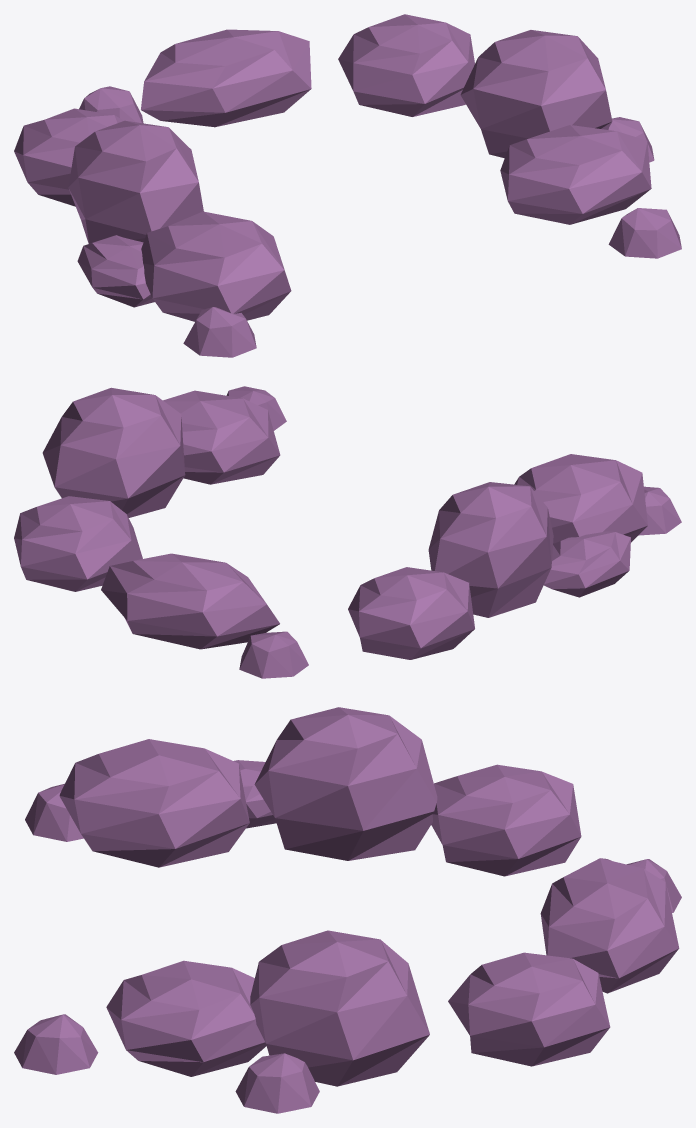
The model's file is decoration.glb.
3 views of the same model, one above another, from view 1: azimuth 30°, elevation 25°; view 2: azimuth 150°, elevation 25°; view 3: azimuth 270°, elevation 25° (orthographic). The views are drawn at different scales.
Visible parts, largest first — view 1: Decor_Tartarus_PurpleRock; view 2: Decor_Tartarus_PurpleRock; view 3: Decor_Tartarus_PurpleRock.
Part boxes in pixels (bbox=[...]): Decor_Tartarus_PurpleRock: bbox=[14, 14, 681, 357]; Decor_Tartarus_PurpleRock: bbox=[14, 386, 681, 678]; Decor_Tartarus_PurpleRock: bbox=[14, 707, 681, 1113].
Bounding box in the file's own units: 1.41 × 0.27 × 1.24.
